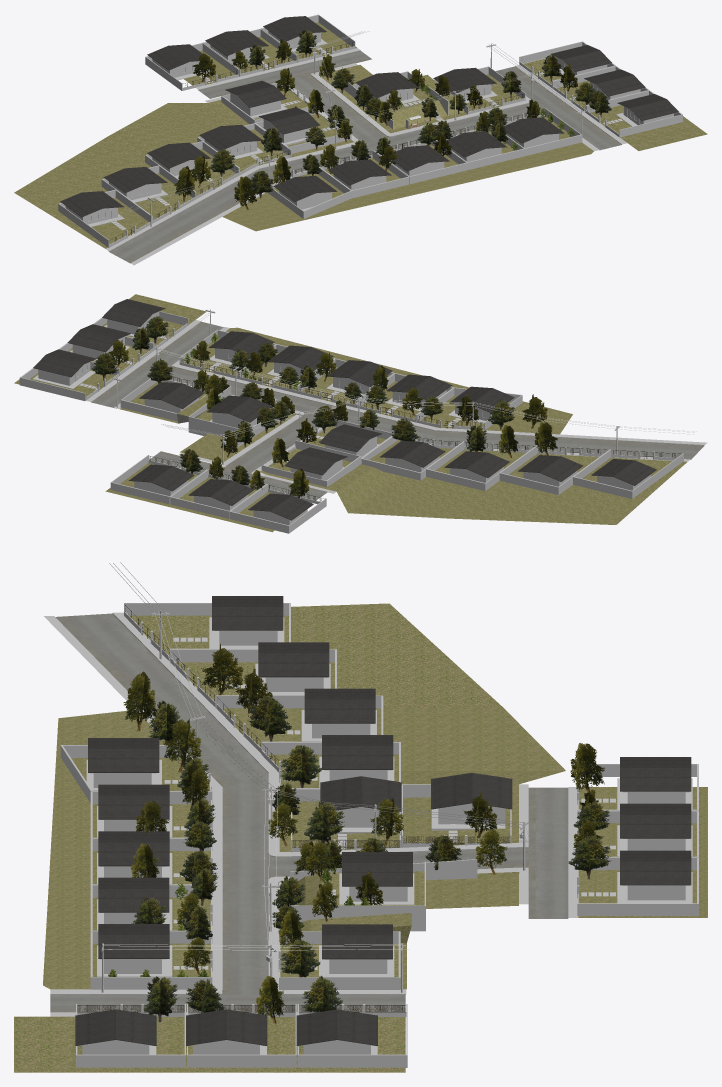
The model's file is Stop.fbx.
3 views of the same model, one above another, from view 1: azimuth 30°, elevation 25°; view 2: azimuth 150°, elevation 25°; view 3: azimuth 270°, elevation 25° (orthographic). The views are drawn at different scales.
Visible parts, largest first — view 1: Tree.002, House_009, House_005, House_002, House_003, House_011, House_006, House_010, House_001, House, House_007, House_004 (+10 smaller); view 2: Tree.002, House_009, House_005, House_003, House_002, House_011, House_010, House_008, House_007, House_004, House_006, Lamppost_011 (+17 smaller); view 3: Tree.002, House_005, House_009, House_003, House_002, House_004, House_001, House_011, House_010, House_008, House_006, House_007 (+24 smaller).
Part boxes in pixels (x1,y1,x2,y2): Tree.002: (14,22,707,265); House_009: (145,14,355,90); House_005: (519,41,682,137); House_002: (319,140,467,198); House_003: (221,80,351,153); House_011: (58,189,152,247); House_006: (267,167,351,218); House_010: (101,165,195,223); House_001: (491,108,582,155); House: (436,124,524,170); House_007: (197,123,291,175); House_004: (433,66,525,114); Tree.002: (14,294,707,532); House_009: (110,455,326,533); House_005: (19,299,188,400); House_003: (261,419,393,487); House_002: (297,358,453,422); House_011: (573,449,683,498); House_010: (499,445,609,494); House_008: (426,441,536,490); House_007: (361,433,463,480); House_004: (120,377,210,421); House_006: (416,386,522,430); Lamppost_011: (113,310,696,437); Tree.002: (14,603,707,1072); House_005: (75,1004,407,1067); House_009: (577,757,698,915); House_003: (291,773,512,852); House_002: (90,784,212,884); House_004: (278,924,400,989); House_001: (90,924,212,989); House_011: (124,596,290,661); House_010: (170,642,336,708); House_008: (216,688,383,753); House_006: (60,738,212,802); House_007: (261,735,400,788).
Bounding box in the file's own units: 21696 × 1555 × 13569.
